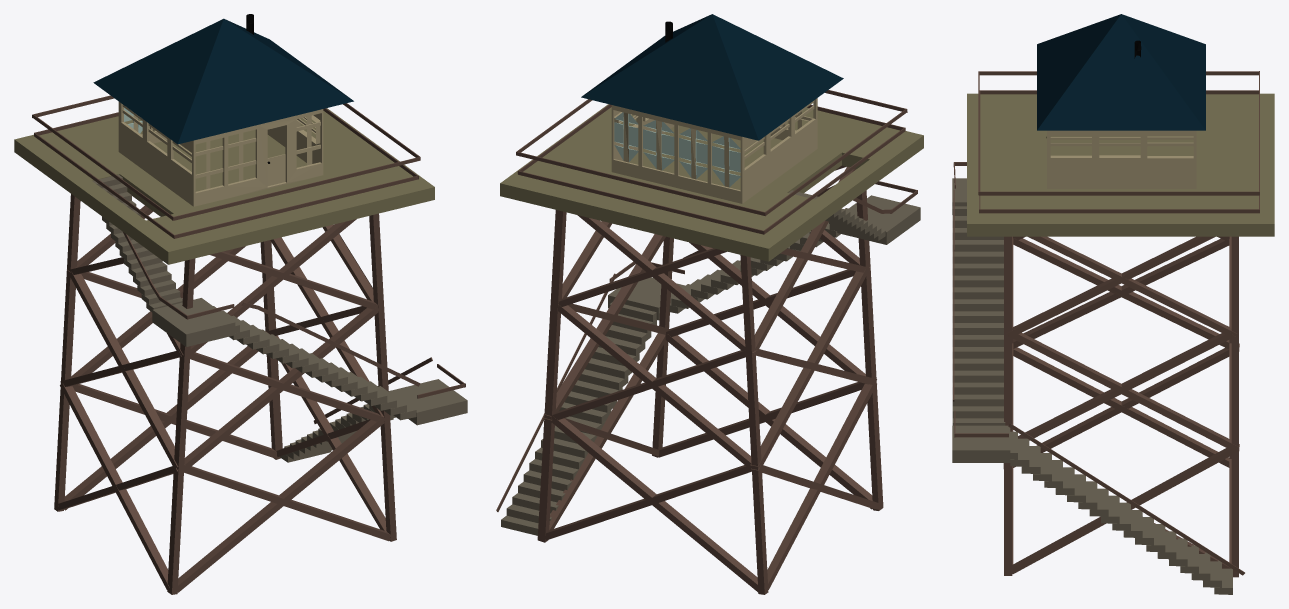
The model's file is fire-lookout.zfix-v1.lod1.glb.
3 views of the same model, side by side, from view 1: azimuth 30°, elevation 25°; view 2: azimuth 150°, elevation 25°; view 3: azimuth 270°, elevation 25° (orthographic).
Parts seen in each view (by area): view 1: Object_4; view 2: Object_4; view 3: Object_4.
Part boxes in pixels (x1=…): Object_4: x1=14, y1=14, x2=467, y2=594; Object_4: x1=496, y1=14, x2=923, y2=594; Object_4: x1=952, y1=14, x2=1274, y2=594.
Size of the model in its own units: 9.33 by 15.51 by 8.93.
